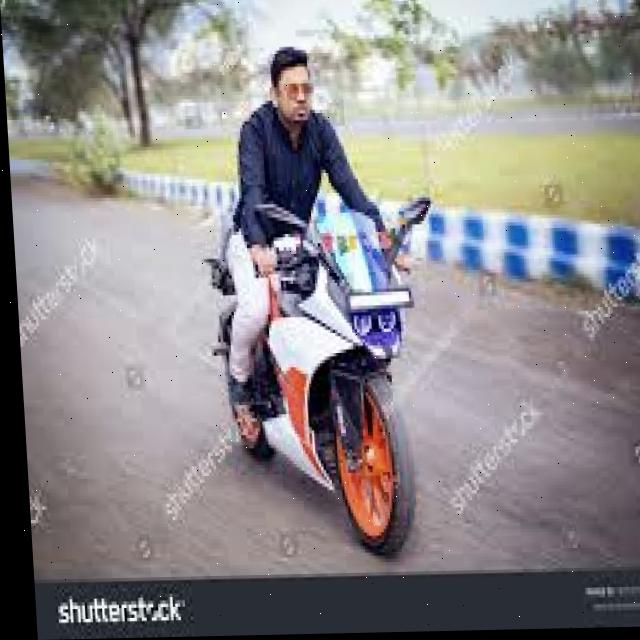without helmet: (254, 33, 325, 138)
